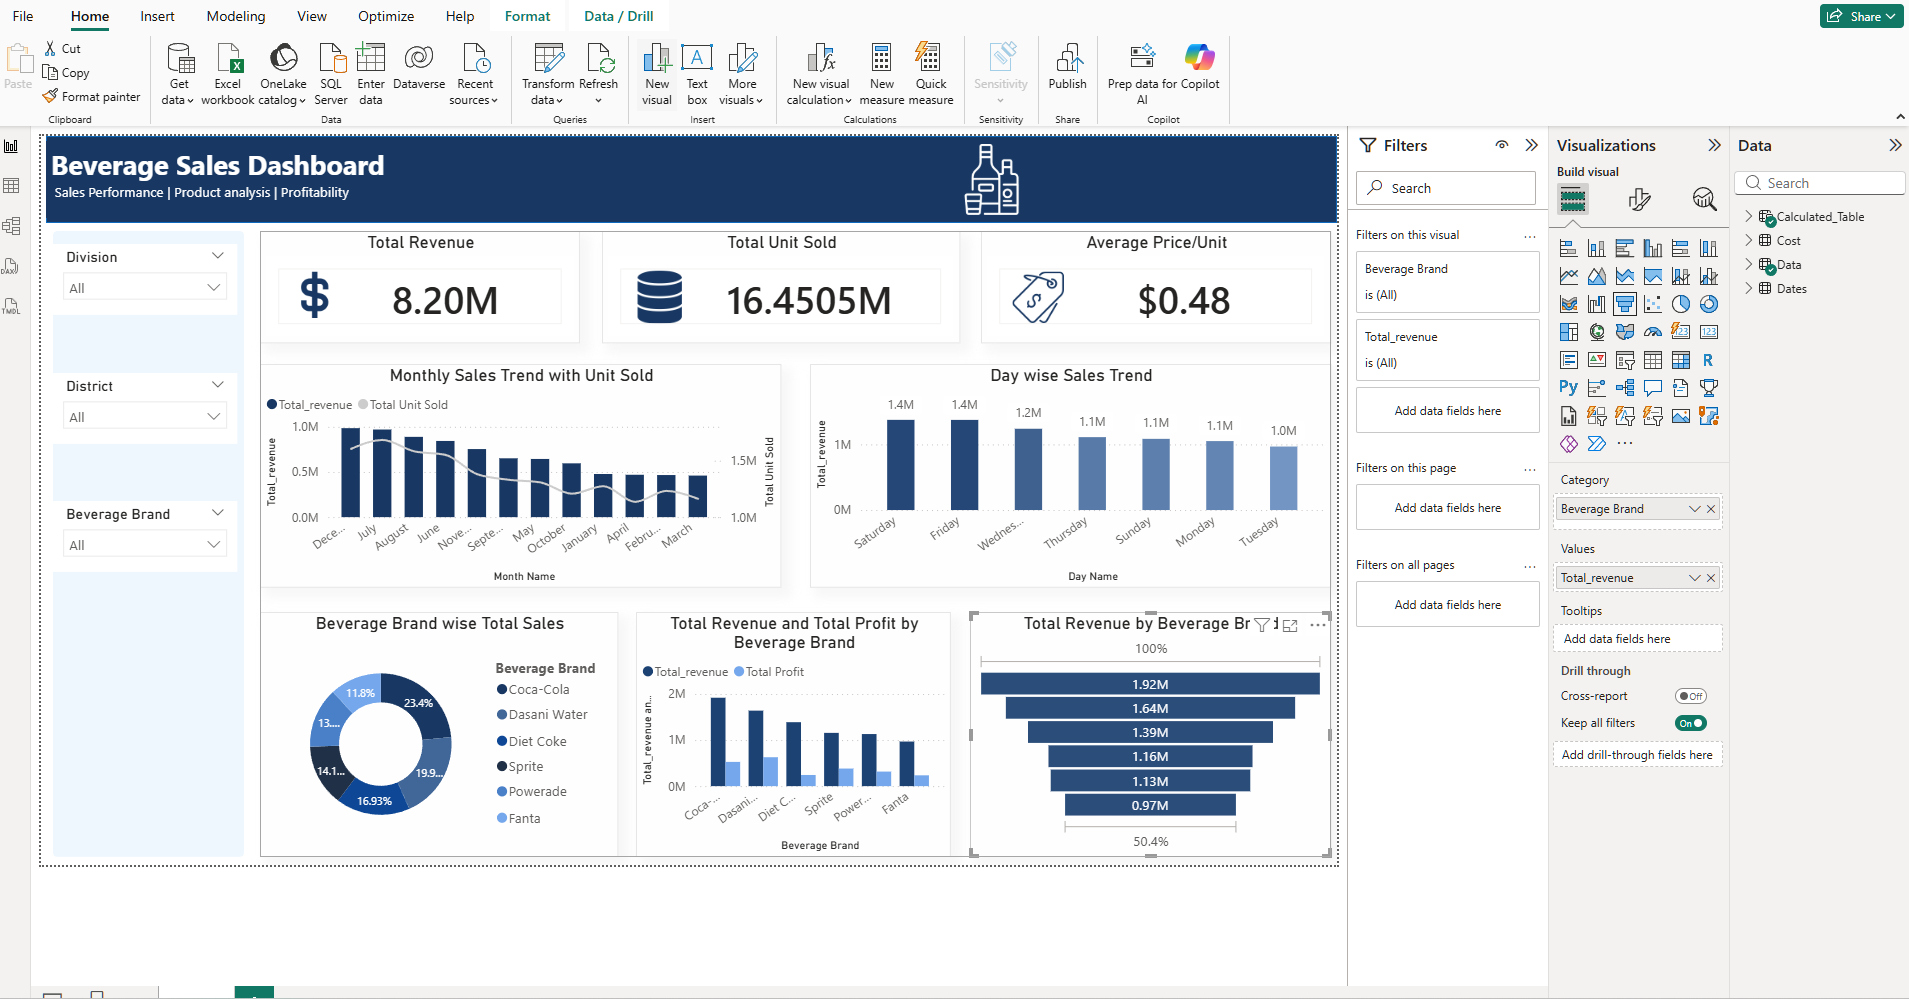

Layout of this report page (visuals, bound fields, positions):
{"tool":"powerbi","page":{"name":"Page 1","canvas":[1280,720],"ordinal":0},"visuals":[{"type":"shape","box":[4.9,0,1275.1,85.9],"z":0},{"type":"textbox","box":[4.9,4.9,376.3,76],"z":1000},{"type":"image","box":[891.9,7.9,93.8,70.1],"z":2000},{"type":"group","id":"g1","title":"Group 1","box":[11.9,93.8,188.6,618.3],"z":3000},{"type":"shape","box":[11.9,93.8,188.6,618.3],"z":3000,"group":"g1"},{"type":"group","id":"g2","title":"Group 2","box":[216.3,93.8,1057.8,618.3],"z":4000},{"type":"slicer","fields":{"Values":["Data.Division"]},"box":[11.9,106.6,181.7,70.1],"z":4000,"group":"g1"},{"type":"slicer","fields":{"Values":["Data.District"]},"box":[11.9,234,181.7,70.1],"z":5000,"group":"g1"},{"type":"slicer","fields":{"Values":["Data.Beverage Brand"]},"box":[11.9,360.5,181.7,70.1],"z":6000,"group":"g1"},{"type":"cardVisual","title":"Total Revenue","fields":{"Data":["Calculated_Table.Total_revenue"]},"box":[216.3,93.8,316,110.6],"z":7000,"group":"g2"},{"type":"cardVisual","title":"Total Unit Sold","fields":{"Data":["Calculated_Table.Total Unit Sold"]},"box":[554.1,93.8,353.6,110.6],"z":8000,"group":"g2"},{"type":"cardVisual","title":"Average Price/Unit","fields":{"Data":["Calculated_Table.Average Price Per Unit"]},"box":[928.4,93.8,345.7,110.6],"z":9000,"group":"g2"},{"type":"lineClusteredColumnComboChart","title":"Monthly Sales Trend with Unit Sold","fields":{"Category":["Data.Month Name"],"Y":["Calculated_Table.Total_revenue"],"Y2":["Calculated_Table.Total Unit Sold"]},"box":[216.3,225.2,514.6,221.2],"z":10000,"group":"g2"},{"type":"lineClusteredColumnComboChart","title":"Day wise Sales Trend","fields":{"Y":["Calculated_Table.Total_revenue"],"Category":["Data.Day Name"]},"box":[759.5,225.2,514.6,221.2],"z":11000,"group":"g2"},{"type":"donutChart","title":"Beverage Brand wise Total Sales ","fields":{"Category":["Data.Beverage Brand"],"Y":["Calculated_Table.Total_revenue"]},"box":[216.3,470.1,353.6,242],"z":12000,"group":"g2"},{"type":"clusteredColumnChart","title":"Total Revenue and Total Profit by Beverage Brand","fields":{"Category":["Data.Beverage Brand"],"Y":["Calculated_Table.Total_revenue","Calculated_Table.Total Profit"]},"box":[587.7,470.1,311.1,242],"z":13000,"group":"g2"},{"type":"funnel","title":"Total Revenue by Beverage Brand","fields":{"Category":["Data.Beverage Brand"],"Y":["Calculated_Table.Total_revenue"]},"box":[917.5,470.1,356.5,242],"z":14000,"group":"g2"}]}

Visuals, with their boxes on the page's 1280x720 design canvas (x1, y1, x2, y2). These are canvas units, not pixel positions in the 1909x999 screenshot, which may show the page scaled, cropped or inside an application window:
shape: {"left": 5, "top": 0, "right": 1280, "bottom": 86}
textbox: {"left": 5, "top": 5, "right": 381, "bottom": 81}
image: {"left": 892, "top": 8, "right": 986, "bottom": 78}
"Group 1" group: {"left": 12, "top": 94, "right": 200, "bottom": 712}
shape: {"left": 12, "top": 94, "right": 200, "bottom": 712}
"Group 2" group: {"left": 216, "top": 94, "right": 1274, "bottom": 712}
slicer - Data.Division: {"left": 12, "top": 107, "right": 194, "bottom": 177}
slicer - Data.District: {"left": 12, "top": 234, "right": 194, "bottom": 304}
slicer - Data.Beverage Brand: {"left": 12, "top": 360, "right": 194, "bottom": 431}
"Total Revenue" cardVisual: {"left": 216, "top": 94, "right": 532, "bottom": 204}
"Total Unit Sold" cardVisual: {"left": 554, "top": 94, "right": 908, "bottom": 204}
"Average Price/Unit" cardVisual: {"left": 928, "top": 94, "right": 1274, "bottom": 204}
"Monthly Sales Trend with Unit Sold" lineClusteredColumnComboChart: {"left": 216, "top": 225, "right": 731, "bottom": 446}
"Day wise Sales Trend" lineClusteredColumnComboChart: {"left": 760, "top": 225, "right": 1274, "bottom": 446}
"Beverage Brand wise Total Sales " donutChart: {"left": 216, "top": 470, "right": 570, "bottom": 712}
"Total Revenue and Total Profit by Beverage Brand" clusteredColumnChart: {"left": 588, "top": 470, "right": 899, "bottom": 712}
"Total Revenue by Beverage Brand" funnel: {"left": 918, "top": 470, "right": 1274, "bottom": 712}
